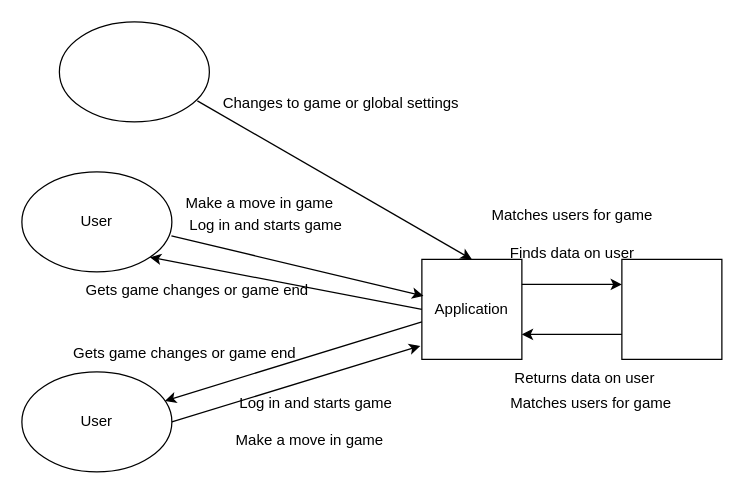
The diagram is 744 pixels wide and 494 high, and some of its shapes have lost their labels. Each missing label, with the box of its shape:
Admin: (58, 21, 209, 122)
Database: (621, 258, 722, 359)
